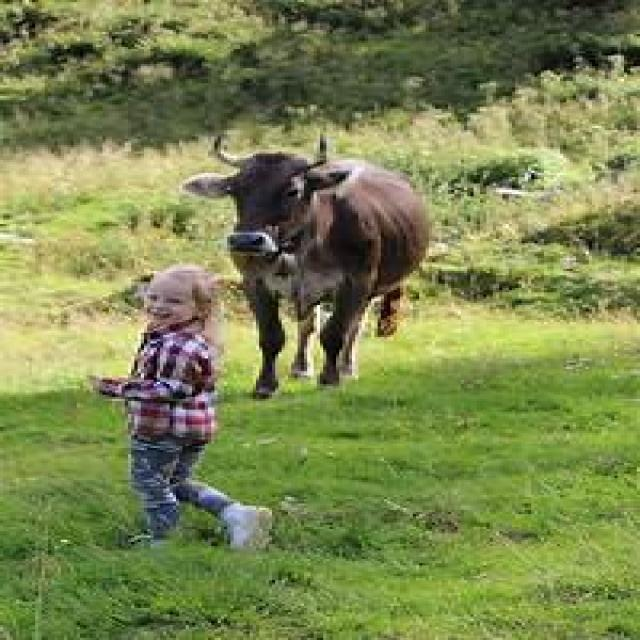cow: (182, 154, 432, 401)
